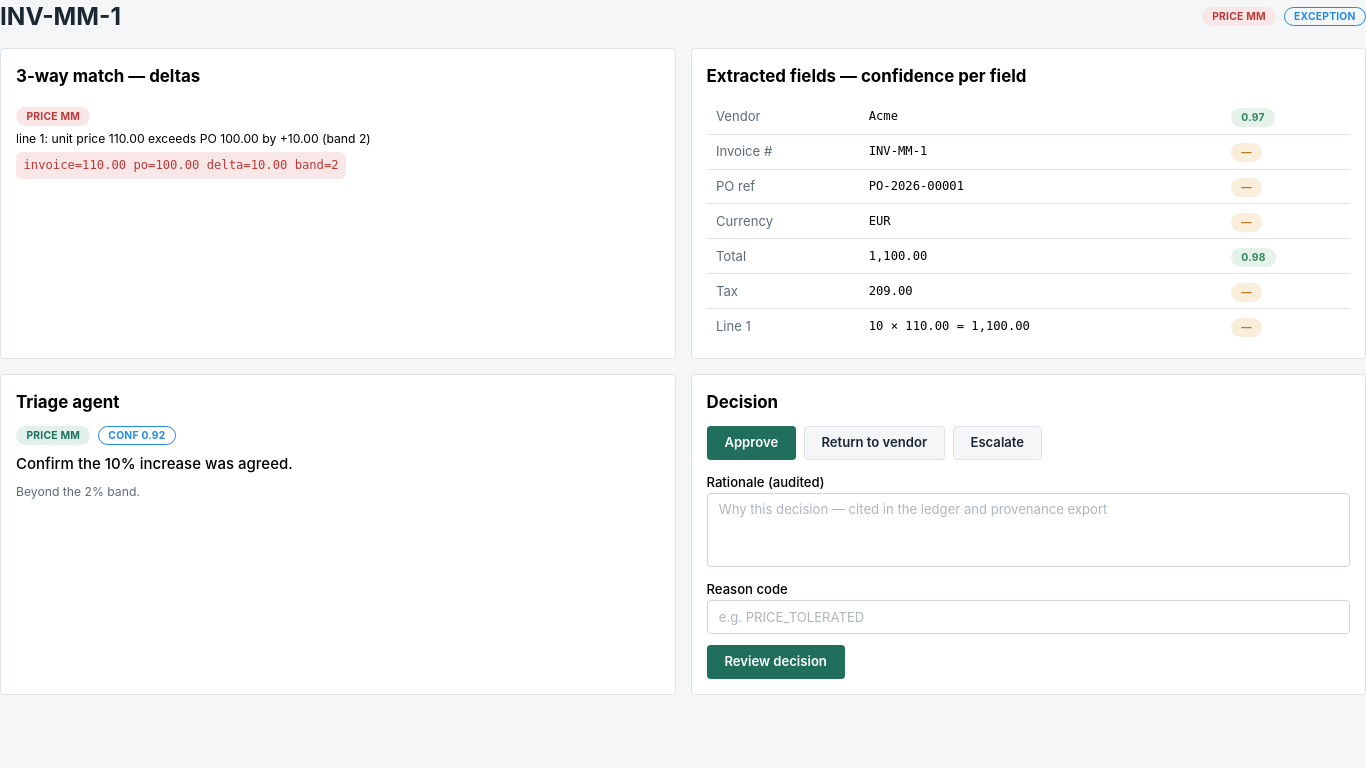
Test: ExceptionDetailPage › renders deltas, confidences and the triage recommendation; the form enforces validation
The image size is (1366, 768).
Check: the text "unit price 110.00 exceeds PO 100.00" is shown, box top-left (16, 131), bottom-right (371, 146)
Check: the text "invoice=110.00 po=100.00 delta=10.00 band=2" is shown, box top-left (16, 152), bottom-right (346, 179)
# validation: empty rationale blocks submit with the Zod message
Click the button with test id "decision-submit": x=776, y=662 top-left (706, 645), bottom-right (845, 679)
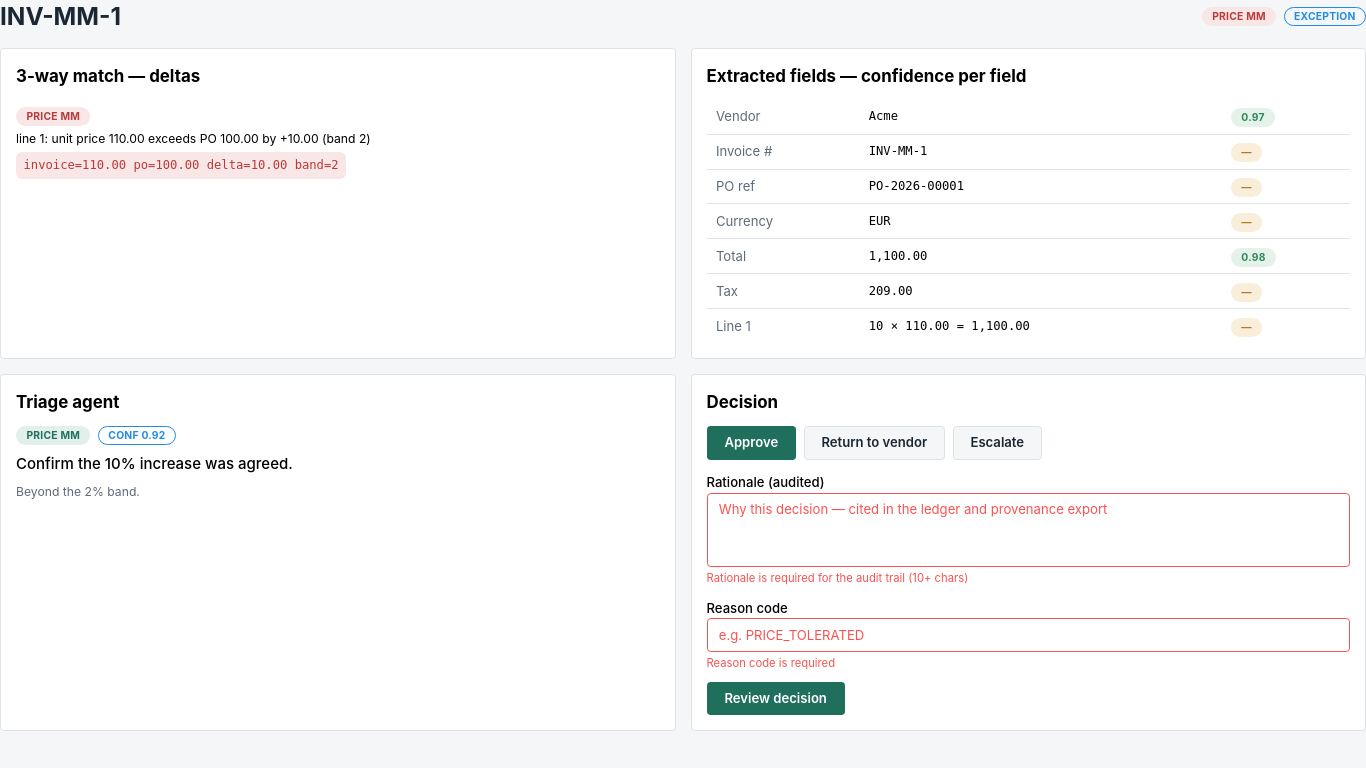
Check: the text "Rationale is required for the audit trail (10+ chars)" is shown, box top-left (706, 571), bottom-right (968, 585)
# fill and open the four-eyes confirm step
In the text box labelled "Rationale (audited)": x=1028, y=530 top-left (706, 493), bottom-right (1350, 567), type "Agreed increase on file."
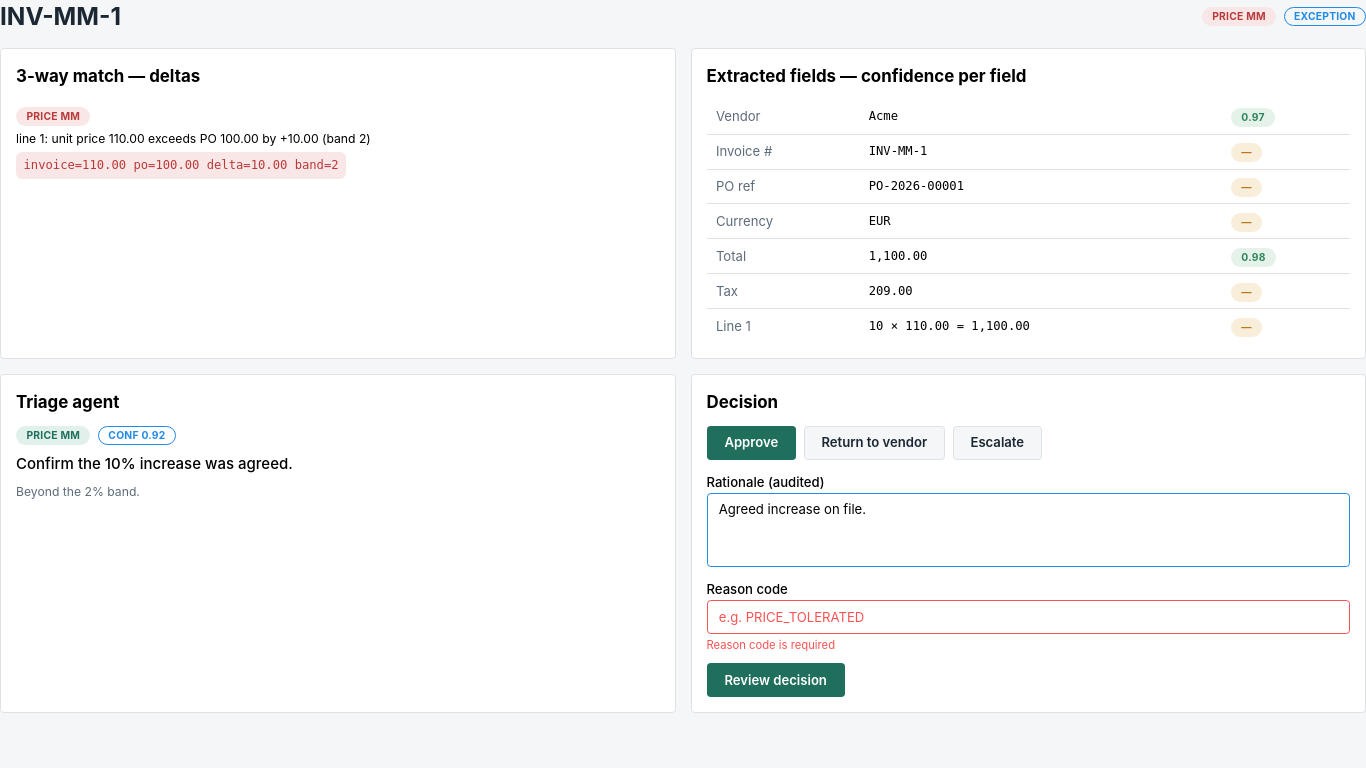
In the field labelled "Reason code": x=1028, y=617 top-left (706, 600), bottom-right (1350, 634), type "PRICE_TOLERATED"
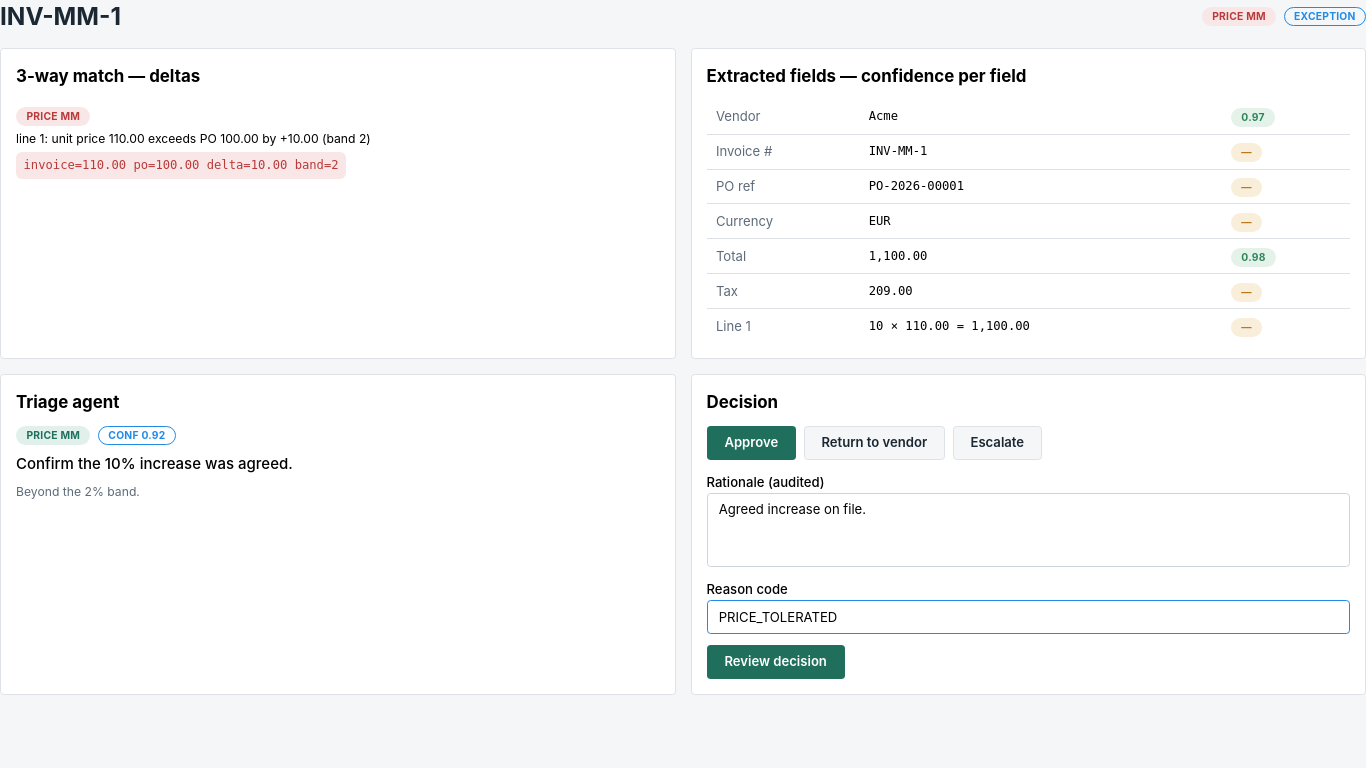
Click the button with test id "decision-submit": x=776, y=662 top-left (706, 645), bottom-right (845, 679)
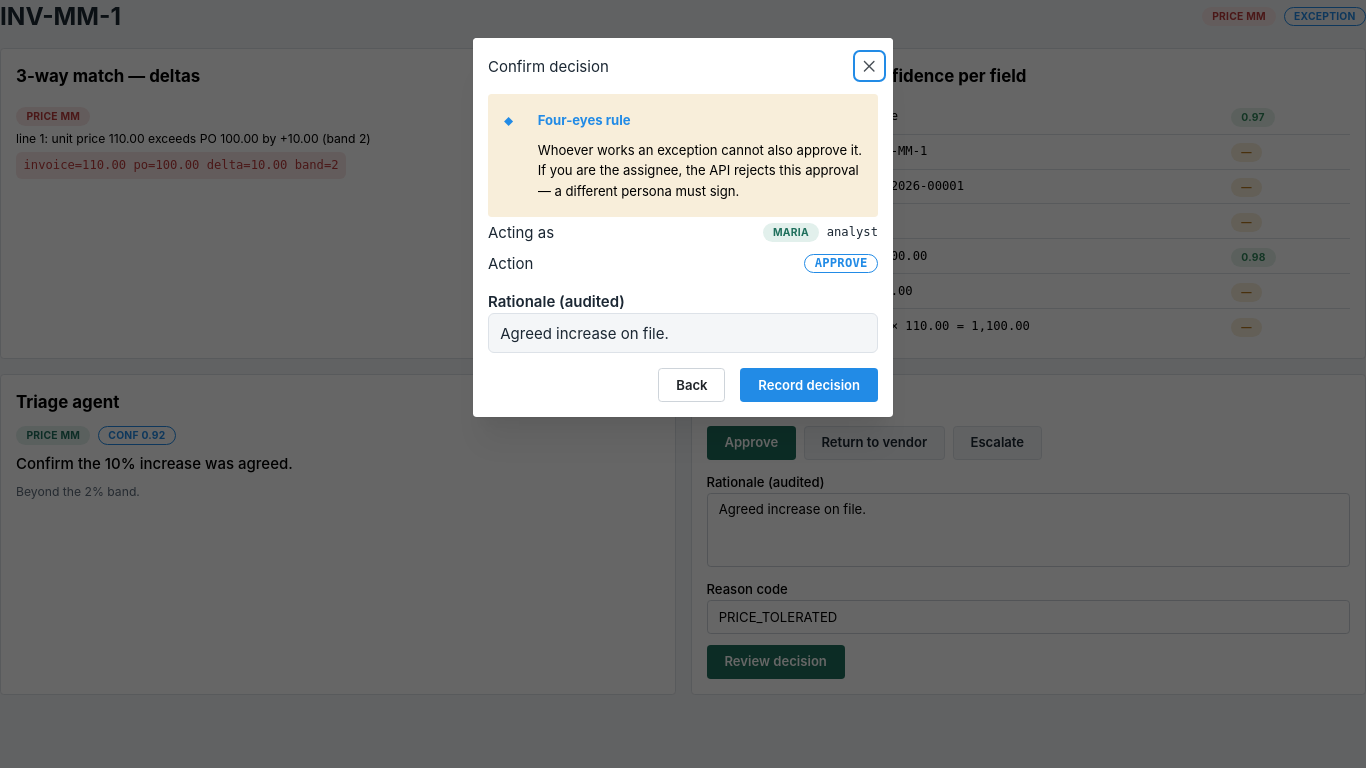
Check: the text "Four-eyes rule" is shown, box top-left (538, 111), bottom-right (631, 131)
Check: the button with test id "confirm-decision" is shown, box top-left (740, 369), bottom-right (878, 402)
